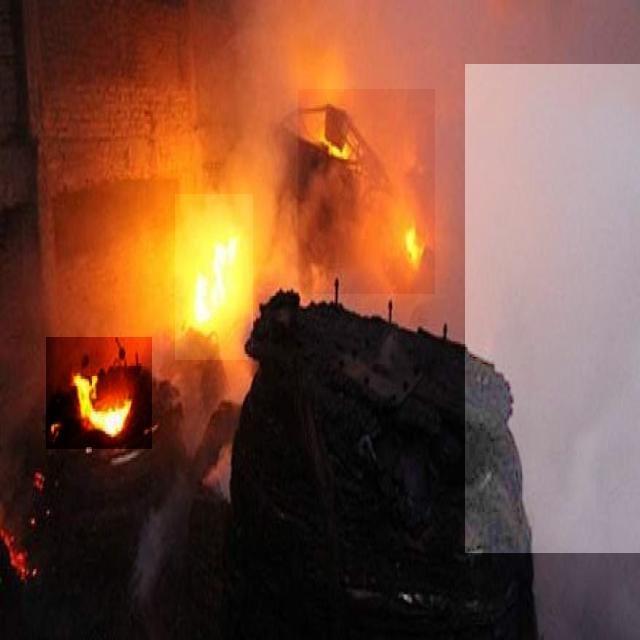Fire: (298, 89, 435, 294), (175, 194, 253, 360), (46, 338, 152, 450)
Smoke: (465, 64, 640, 553)
